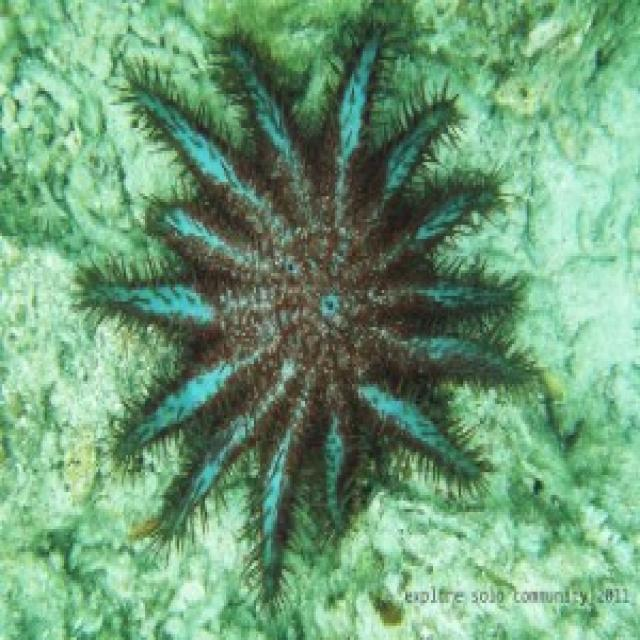Starfish: (80, 22, 540, 575)
